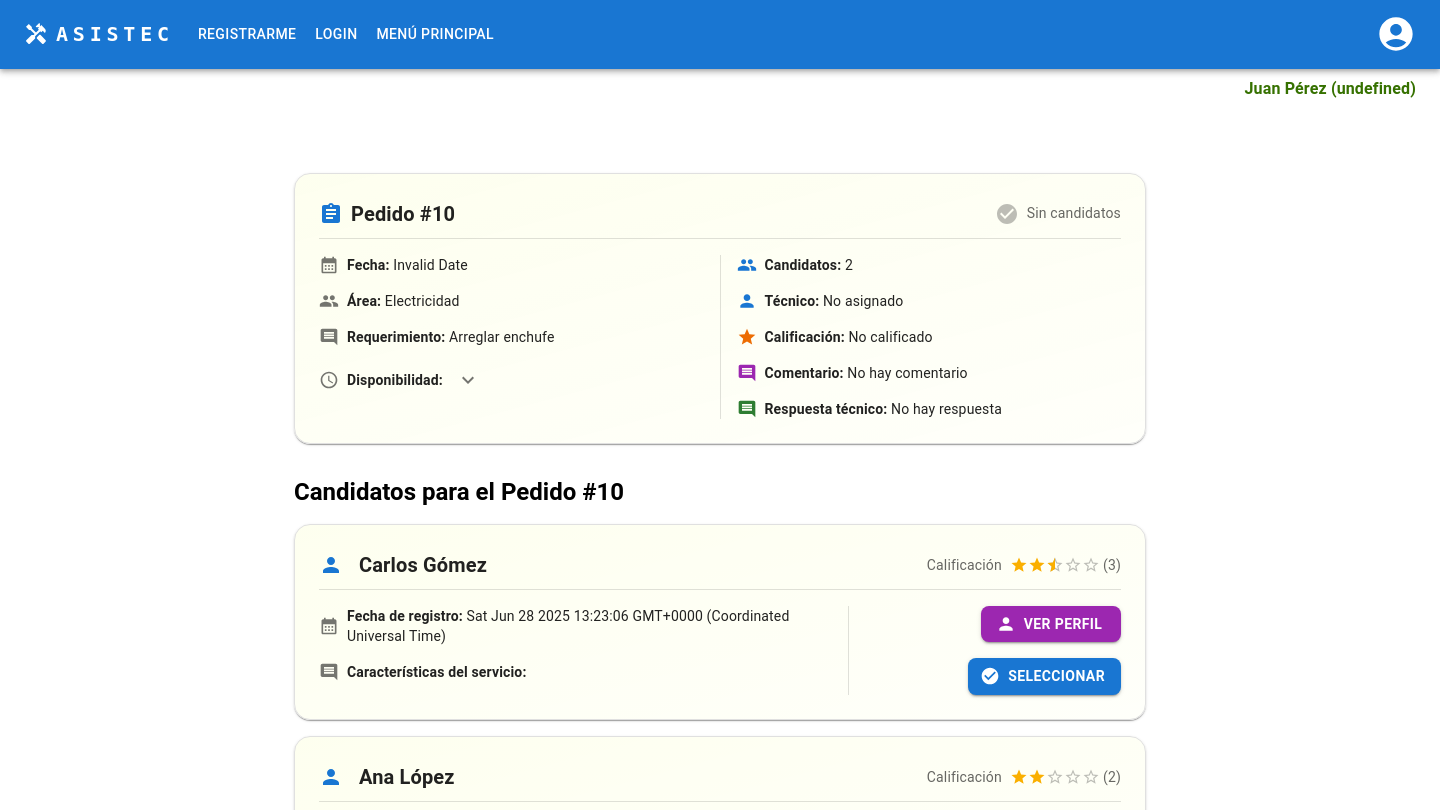
Test: PedidoCandidatos Component › muestra error si falla la selección de técnico
expect the heading "Carlos Gómez" is shown: met, box [359,549,487,581]
Step 1. Click the button "SELECCIONAR" → [1045, 676], box [968,658,1121,695]
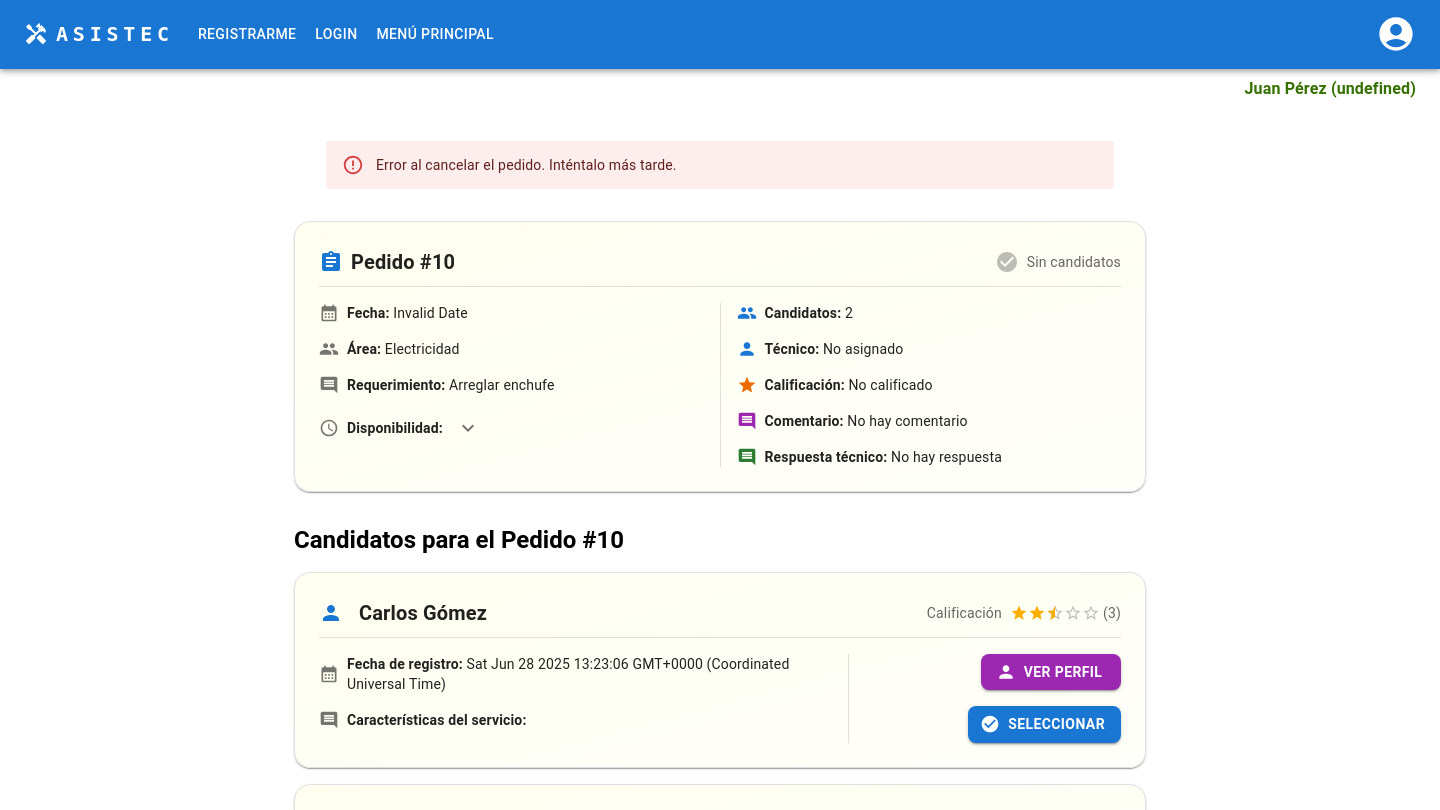
expect the text "Error al cancelar el pedido. Inténtalo más tarde." is shown: met, box [376,156,677,172]
